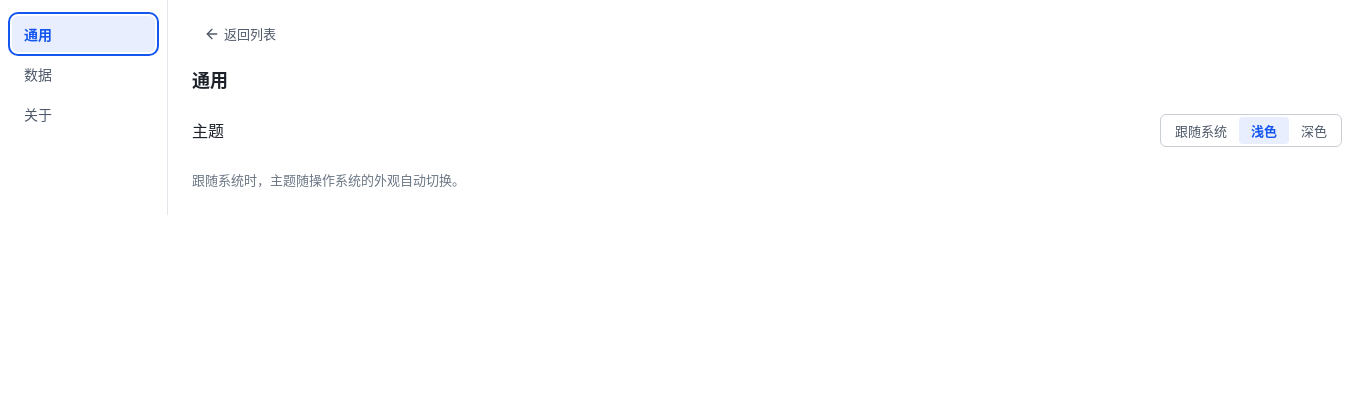
SettingsPage 数据 tab (issue #13) › shows the custom badge and the full monospace path for a custom directory
This screenshot has width=1359, height=401.
Click the button with test id "settings-nav-data": point(84, 74) [12,56,155,92]
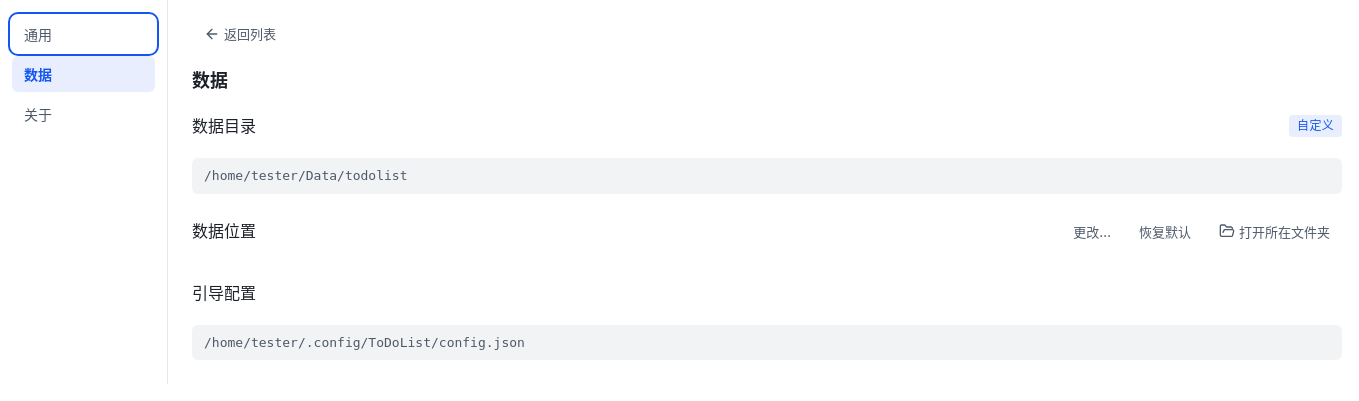
Expected: the text with test id "data-dir-path" reads "/home/tester/Data/todolist", [204,168,408,183]
Expected: the text with test id "data-dir-badge" reads "自定义", [1297,118,1334,133]
Expected: the text with test id "data-dir-config-path" reads "/home/tester/.config/ToDoList/config.json", [204,334,525,350]
